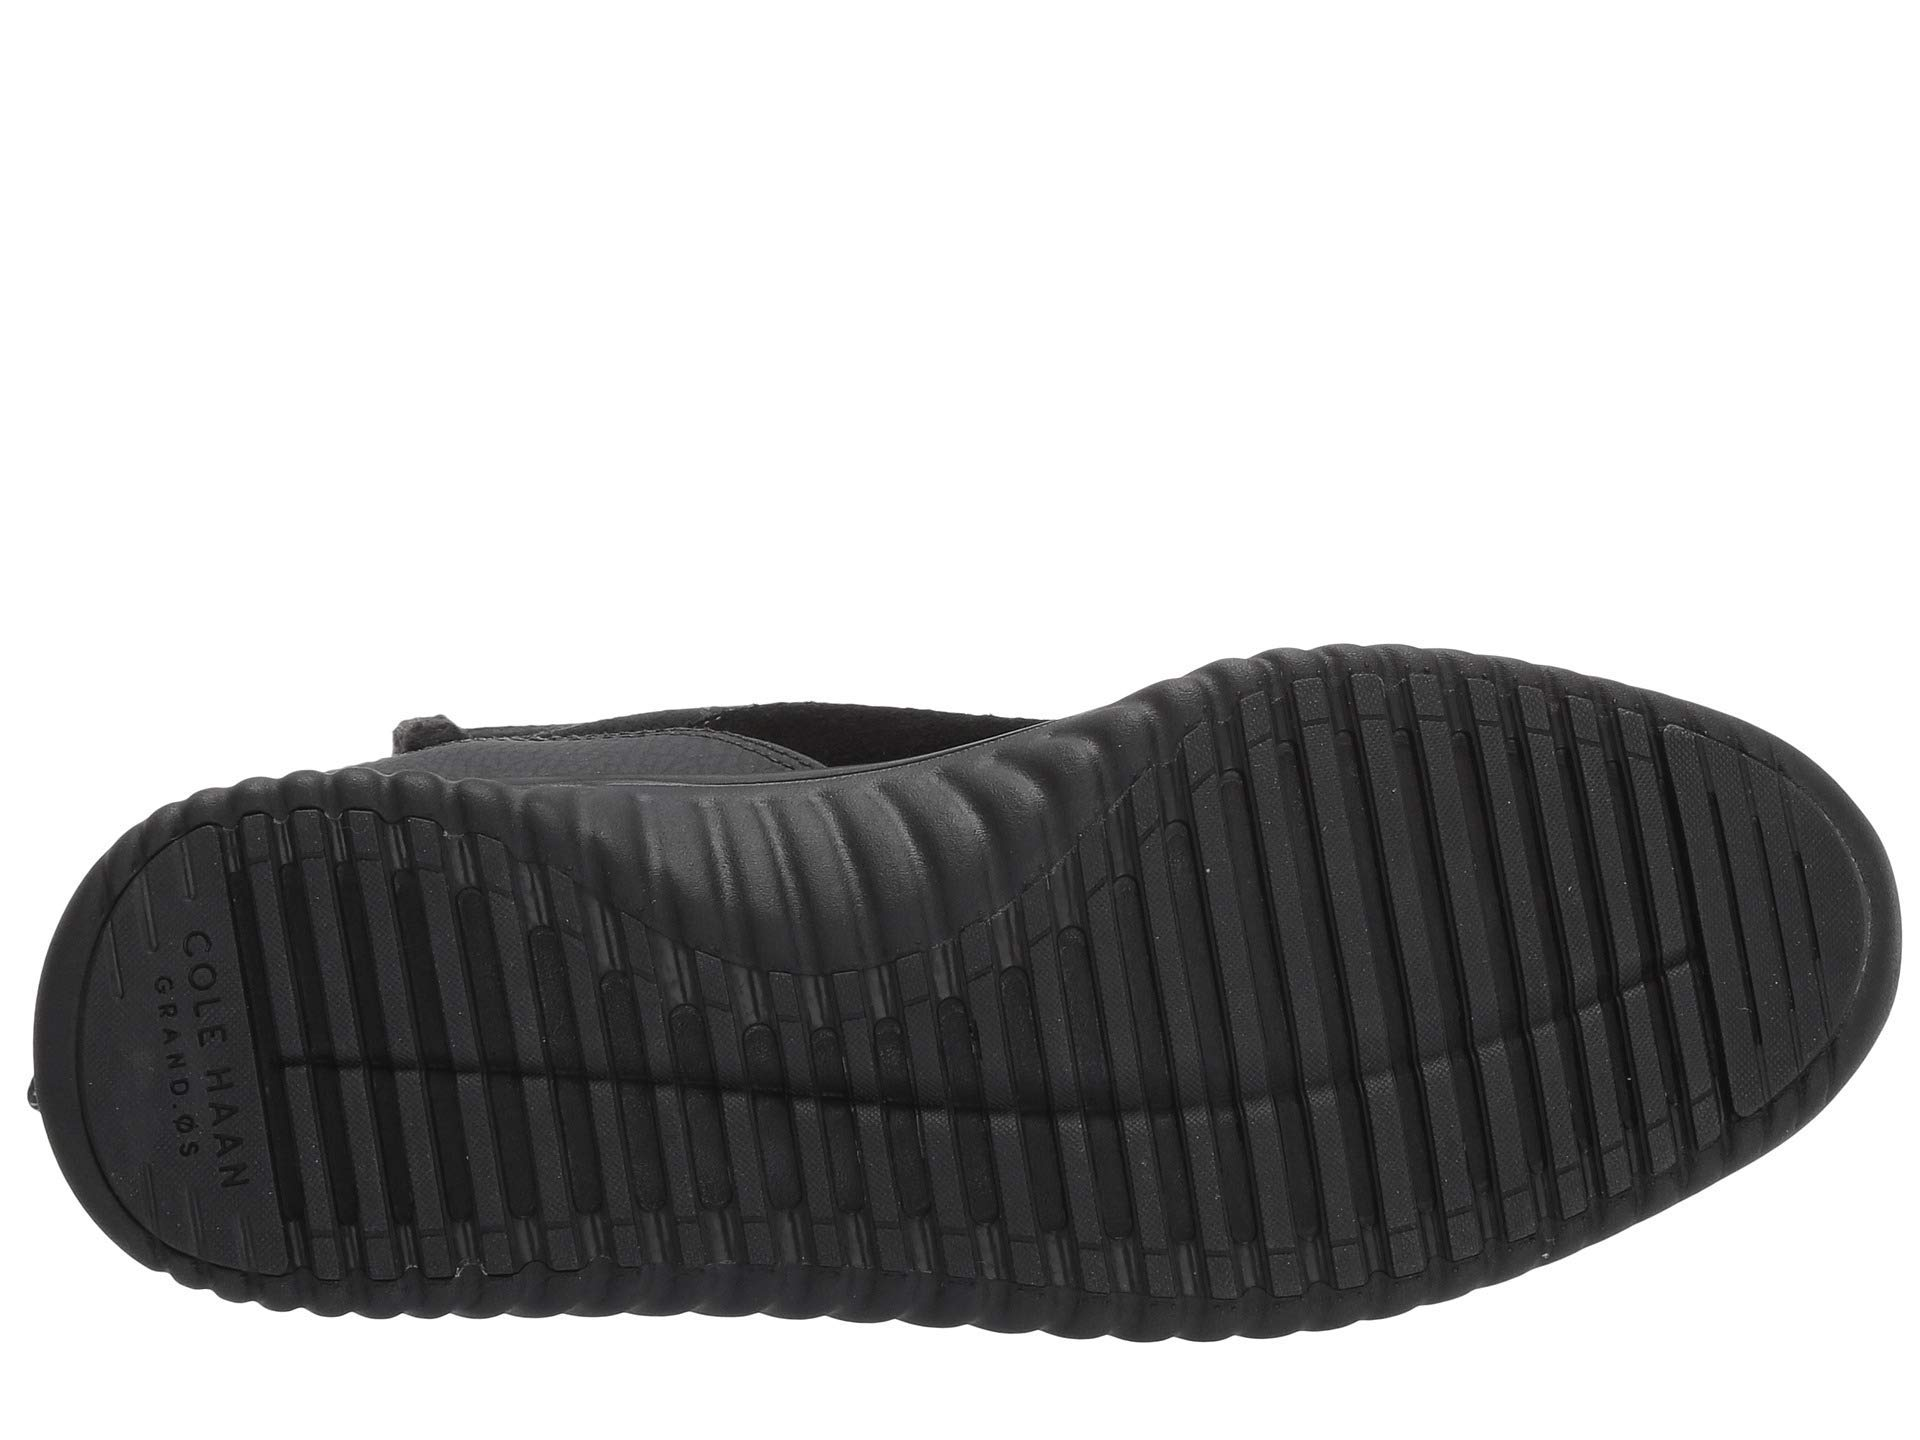line: (1228, 839, 1601, 1213)
